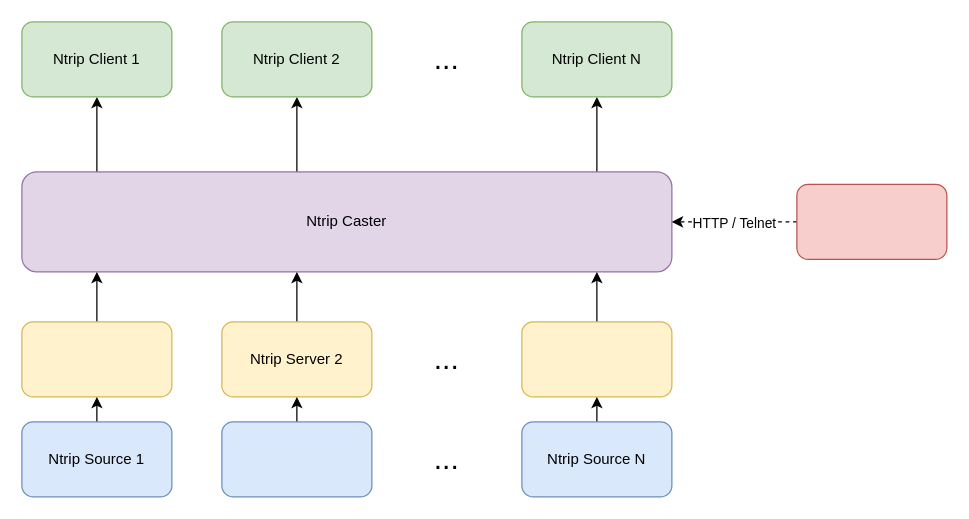
Image size: 969x519. Some labels were removed from this diagram. The box of each missing label's shape, as (x1, y1, x2, y2) in pixels:
Administration: (796, 183, 947, 259)
Ntrip Server 1: (21, 321, 172, 397)
Ntrip Server N: (521, 321, 672, 397)
Ntrip Source 2: (221, 421, 372, 497)
